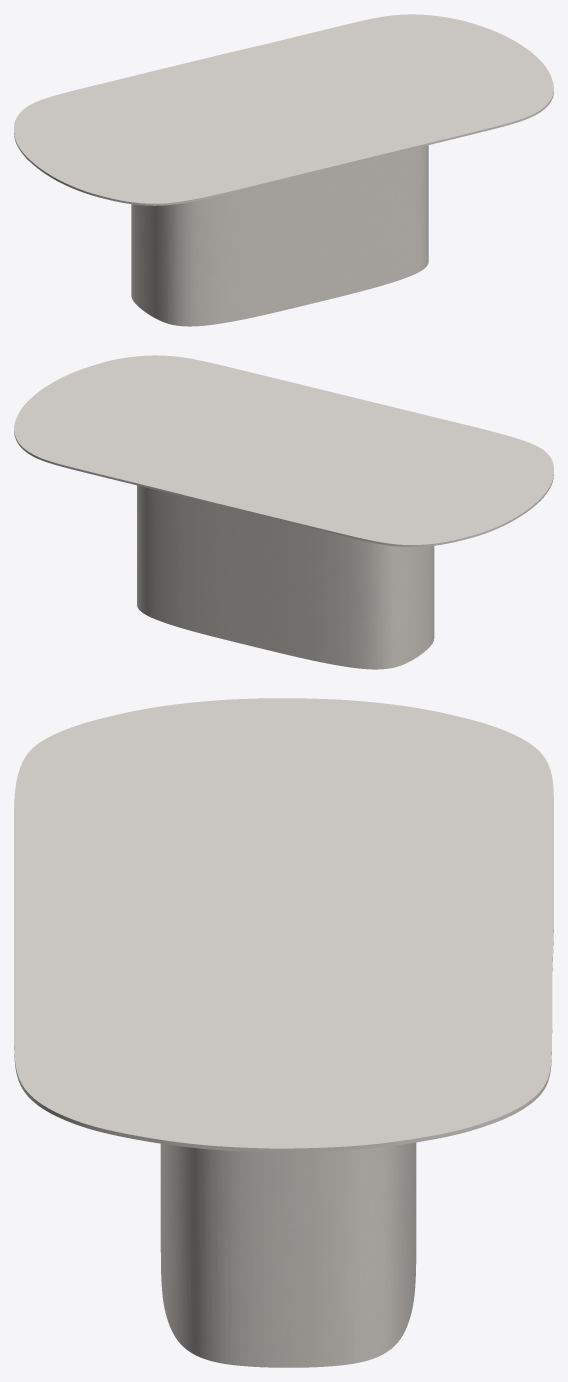
File: pearlwhite_oval_facet_fixed.glb
3 views of the same model, one above another, from view 1: azimuth 30°, elevation 25°; view 2: azimuth 150°, elevation 25°; view 3: azimuth 270°, elevation 25° (orthographic). The views are drawn at different scales.
Visible parts, largest first — view 1: facet_oval, fixed; view 2: facet_oval, fixed; view 3: facet_oval, fixed.
Part boxes in pixels (x1,y1,x2,y2): facet_oval: (14,14,553,205); fixed: (131,145,428,326); facet_oval: (14,355,553,547); fixed: (137,485,434,669); facet_oval: (14,698,553,1152); fixed: (160,1142,416,1367).
Size of the model in its own units: 7.5 by 2.5 by 3.8.
Materials: 1 (1 with a texture image).
